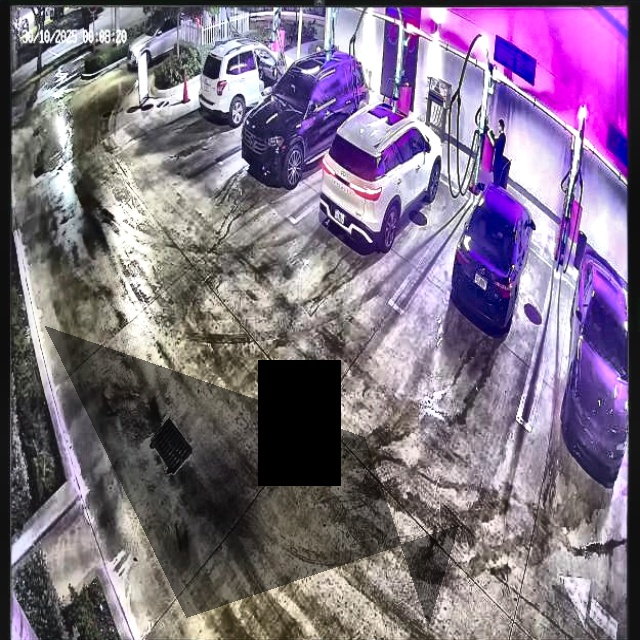Car: (320, 97, 439, 253), (243, 47, 368, 178), (451, 179, 532, 333)
